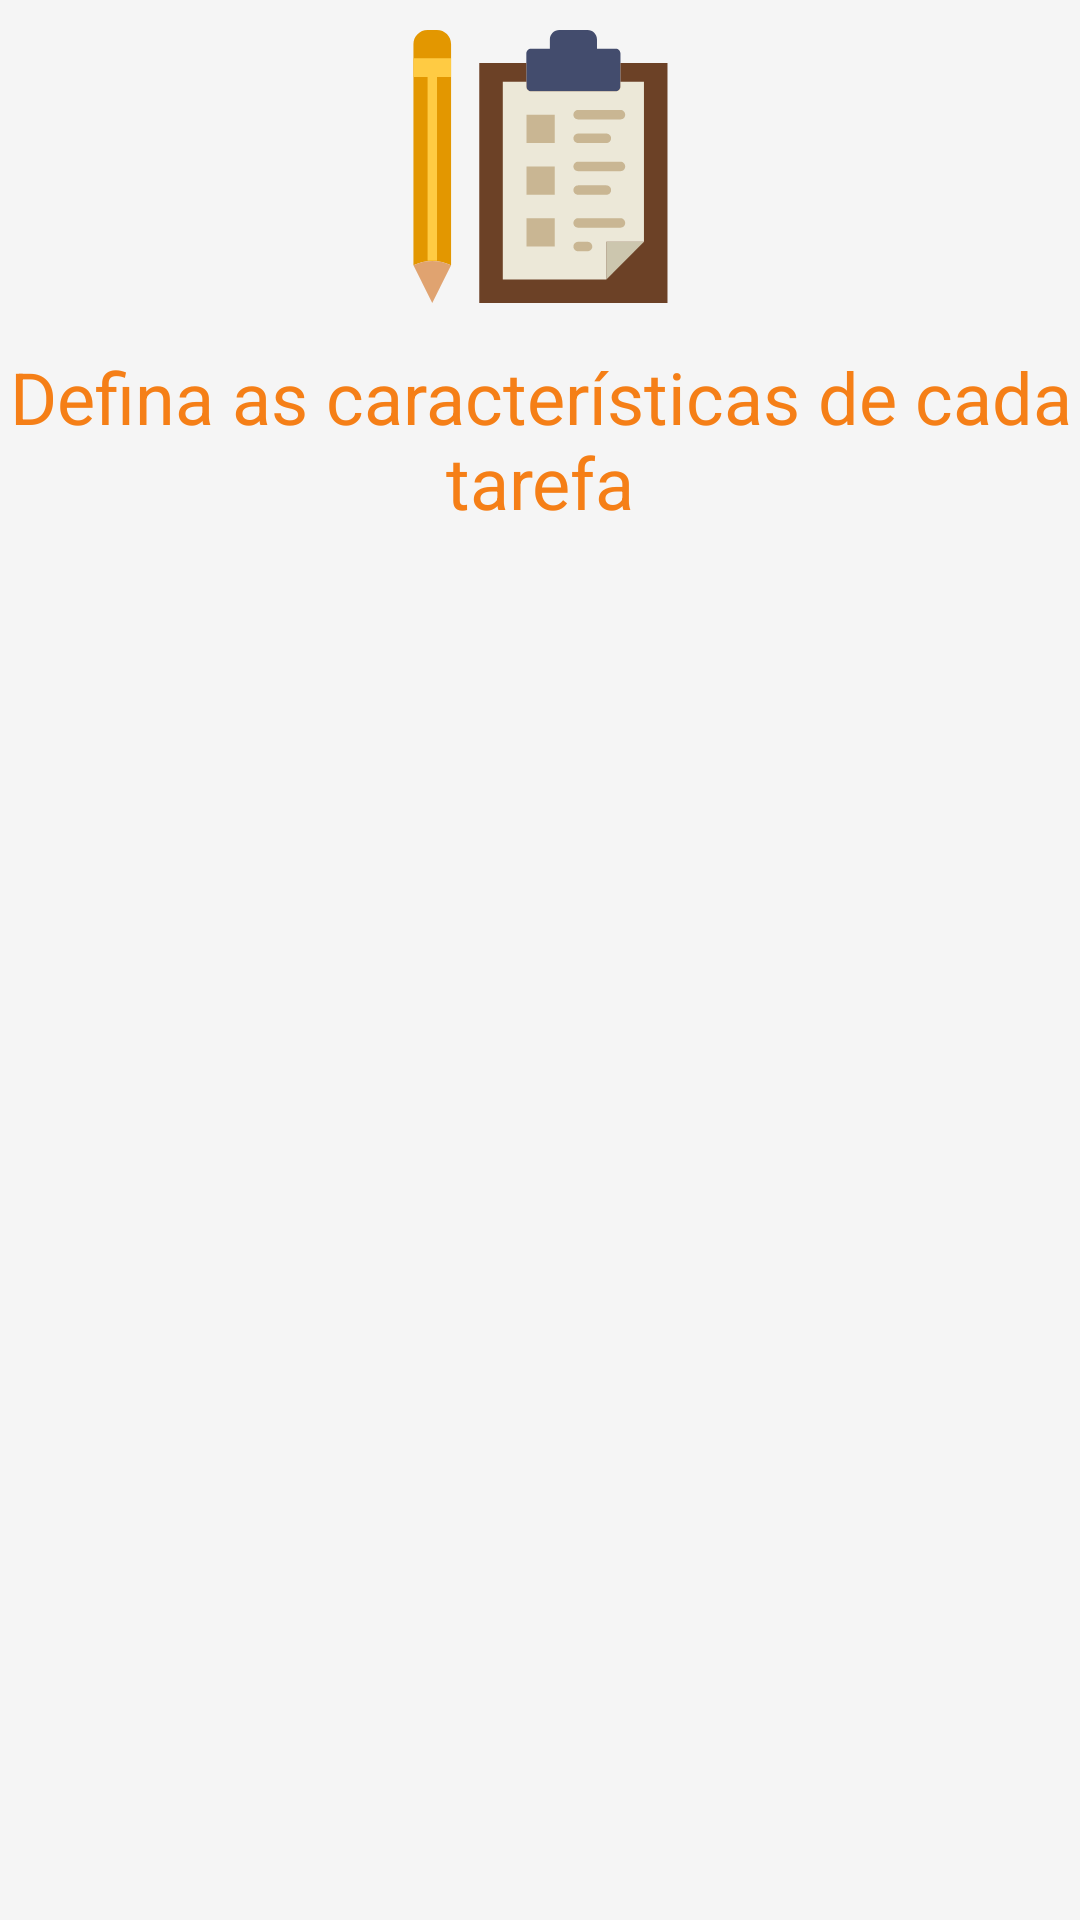

Point at icon controls on the screen. Image size 1080 x 1920, points as point (x, y).
linear content regras tarefas: point (540, 166)
